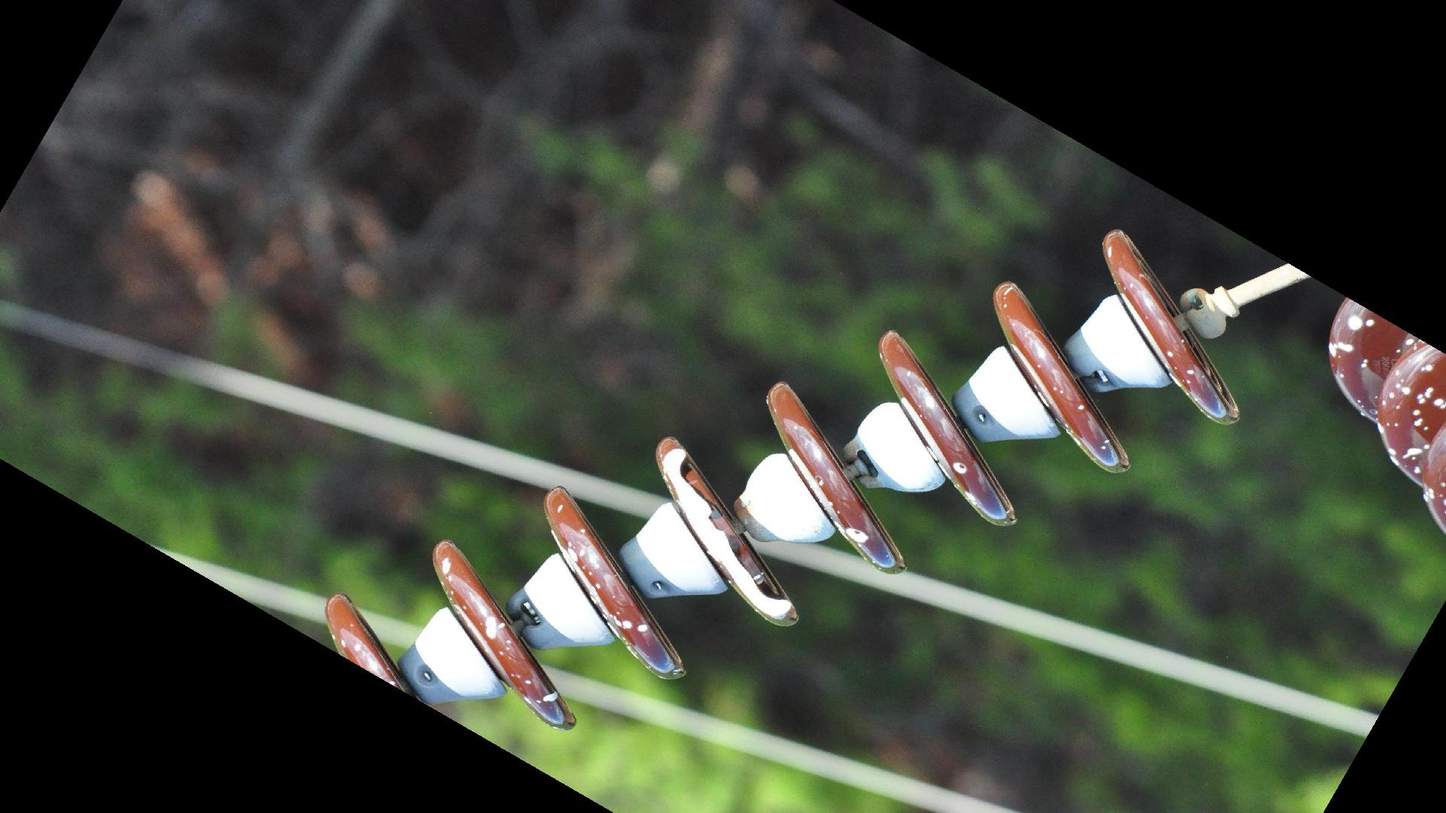insulator: (319, 223, 1248, 741), (1318, 286, 1446, 534)
insulator_breakage: (652, 439, 801, 627)
